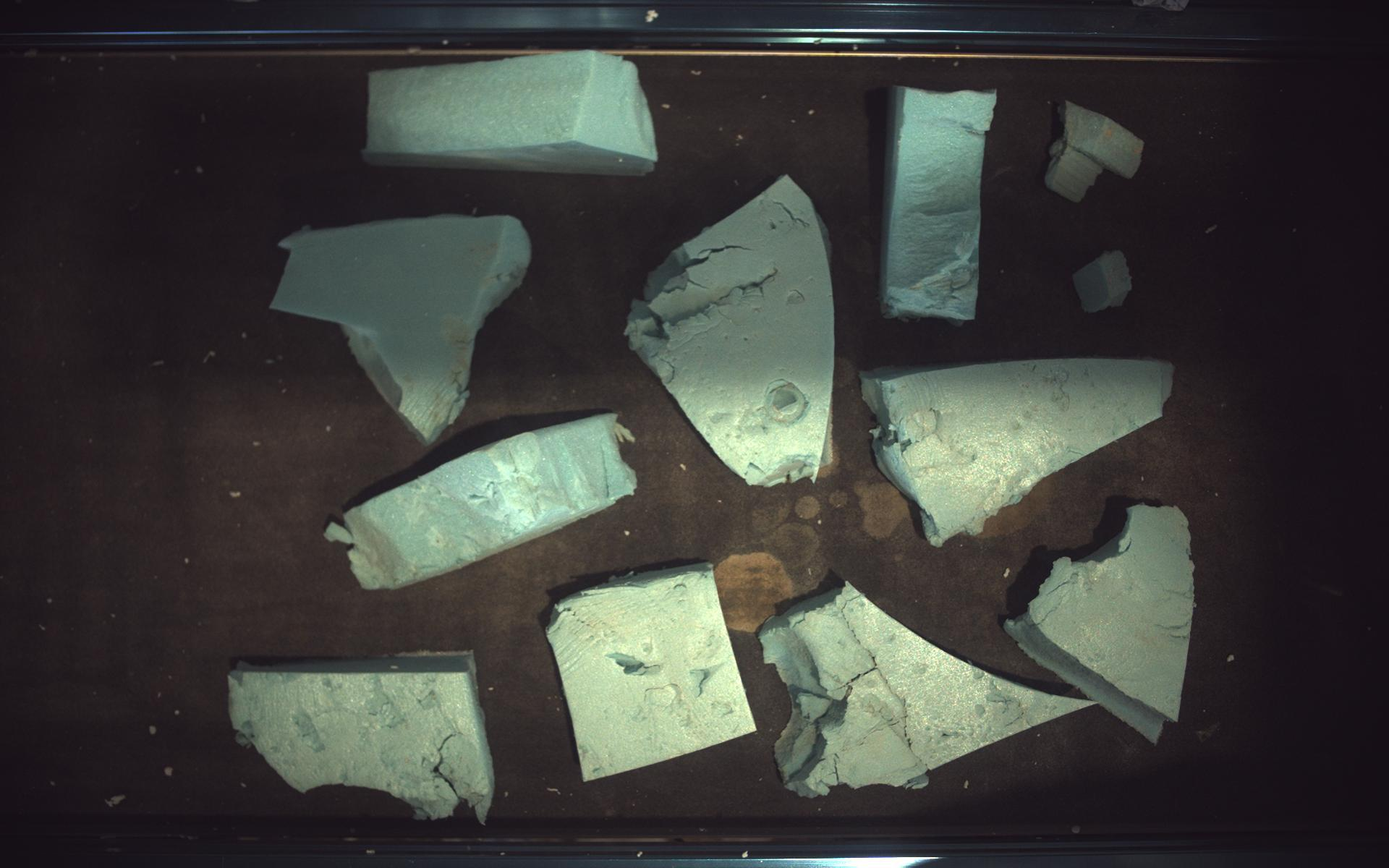foam: (761, 585, 1093, 799), (626, 175, 836, 487), (270, 214, 531, 445), (862, 358, 1175, 546), (326, 413, 637, 590), (1006, 504, 1197, 744), (547, 563, 756, 781), (228, 654, 494, 824), (364, 49, 657, 173), (882, 85, 998, 323), (1048, 101, 1147, 201), (1076, 250, 1134, 312)
